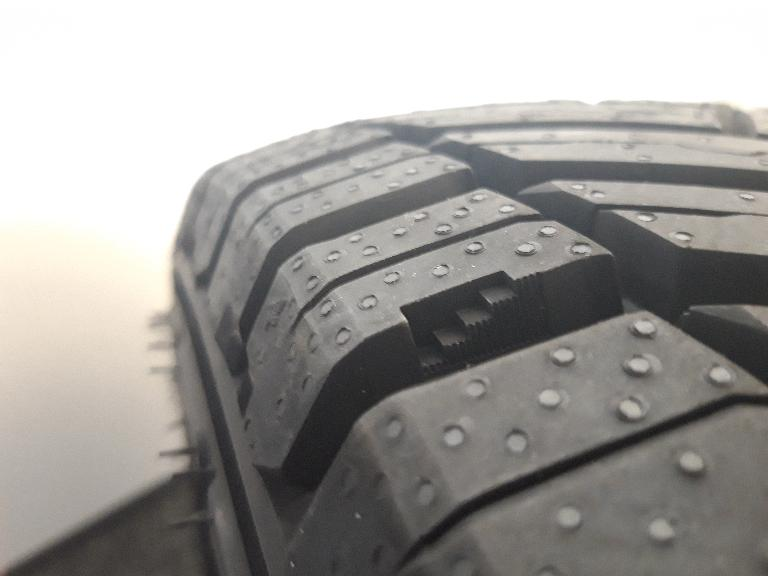temoin:100: (396, 264, 553, 379)
